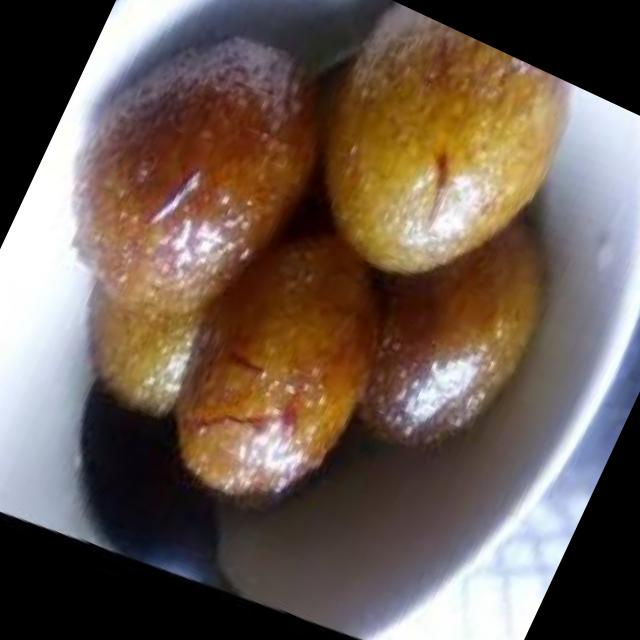gulab_jamun: (23, 0, 356, 365), (276, 0, 585, 329), (135, 198, 416, 538), (316, 181, 574, 491)
